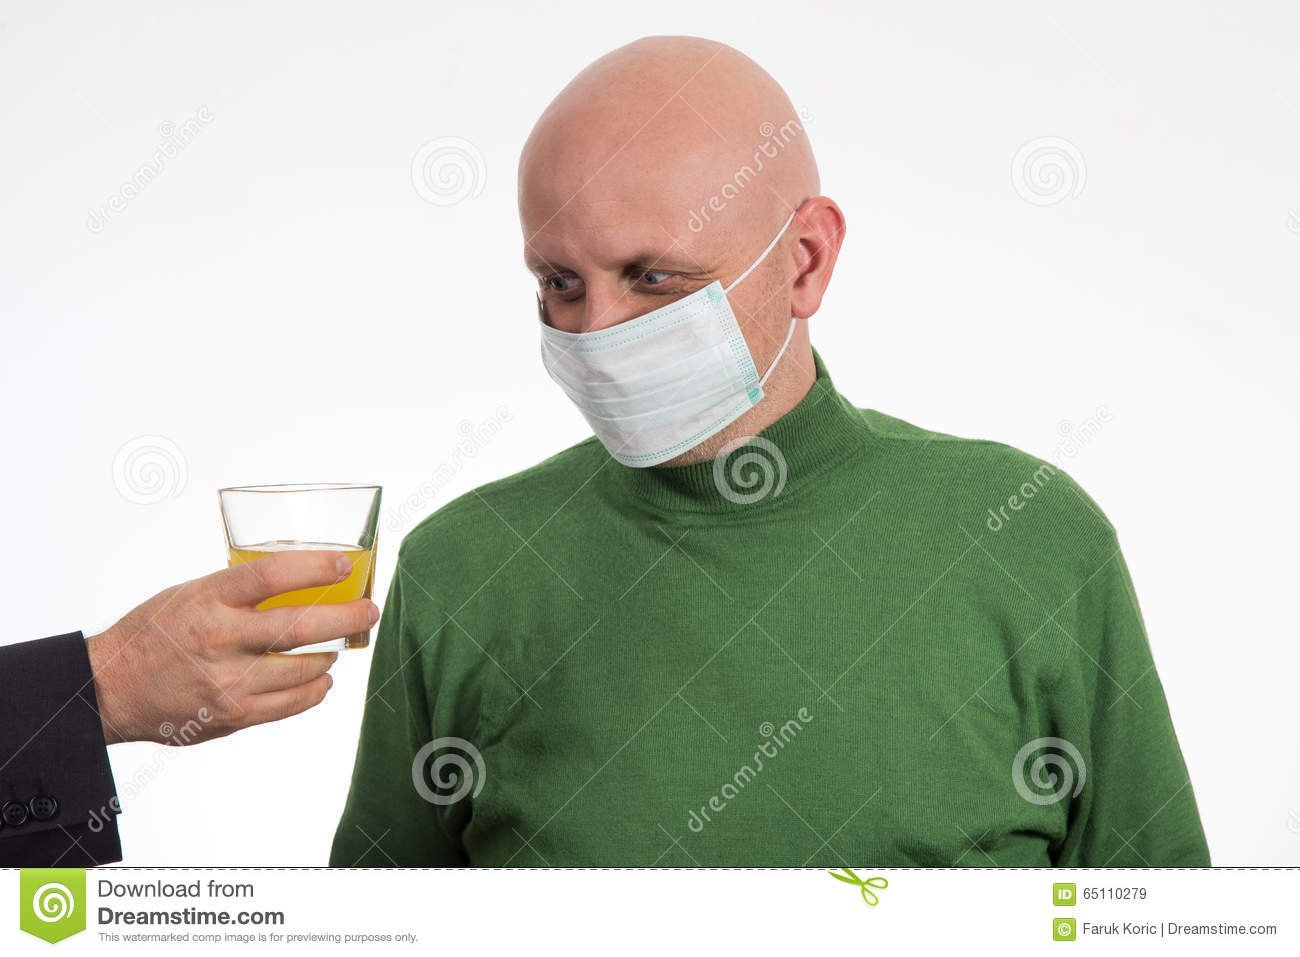mask: (535, 283, 766, 467)
